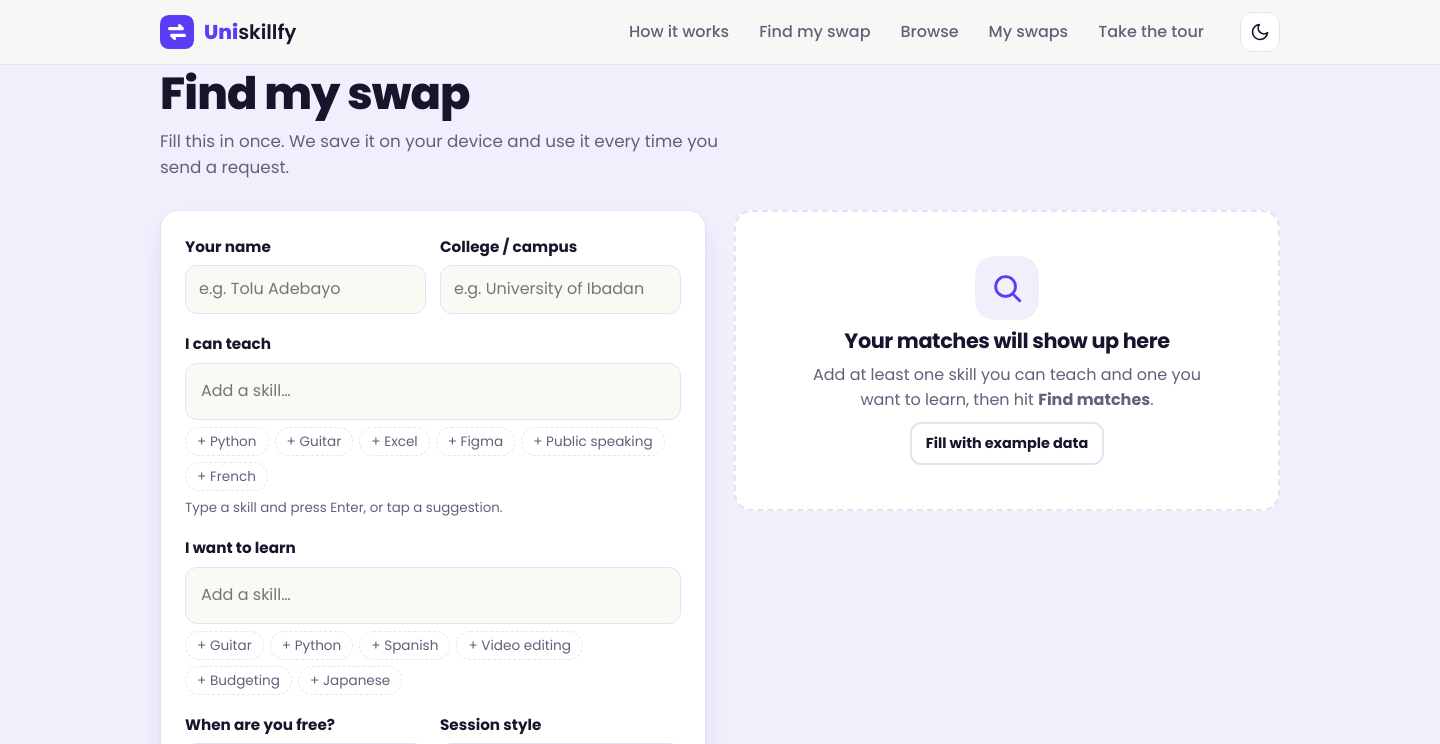
it: app flow › opens the share card dialog after saving a profile
The image size is (1440, 744).
(page scrolled)
Click the button "Fill with example data" at (1007, 443), box [910,422,1104,465]
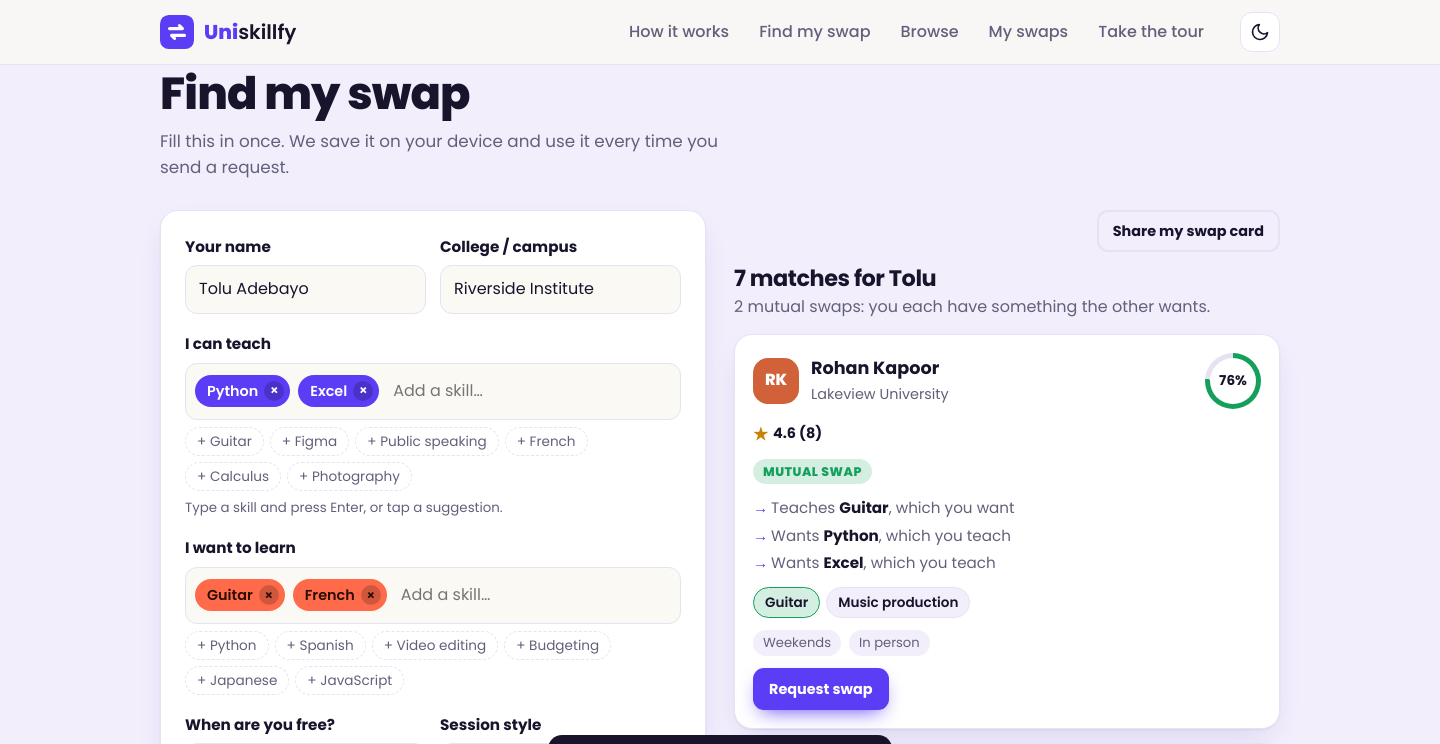
Click the button "Share my swap card" at (1188, 231), box [1097,210,1280,252]
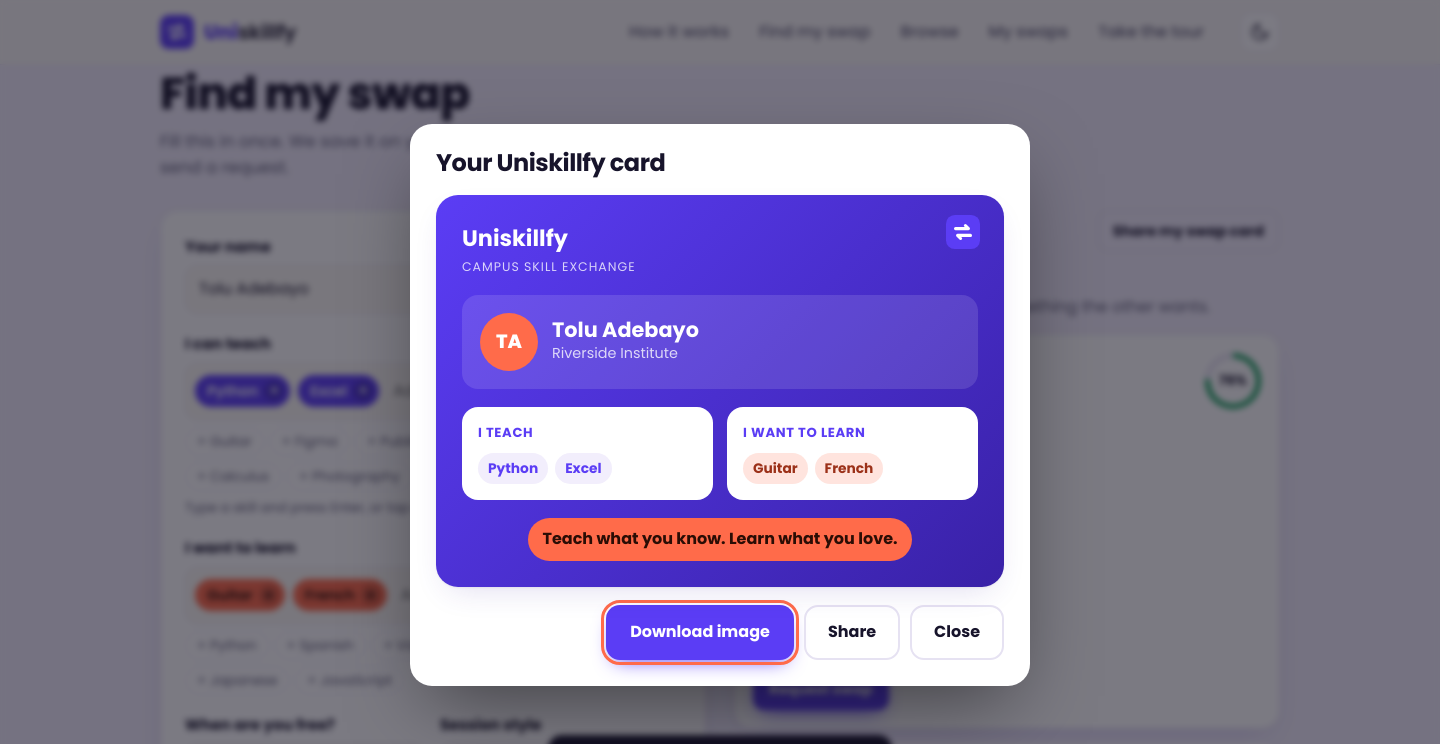
Expected: the heading "Tolu Adebayo" is shown, [552,318,699,342]
